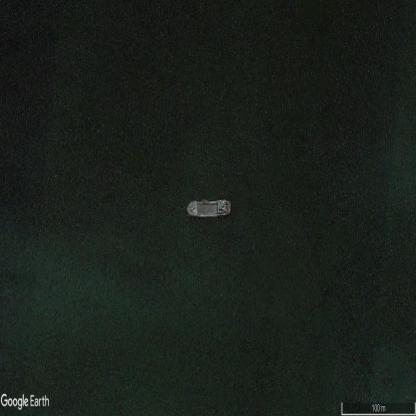ship: (186, 199, 231, 216)
